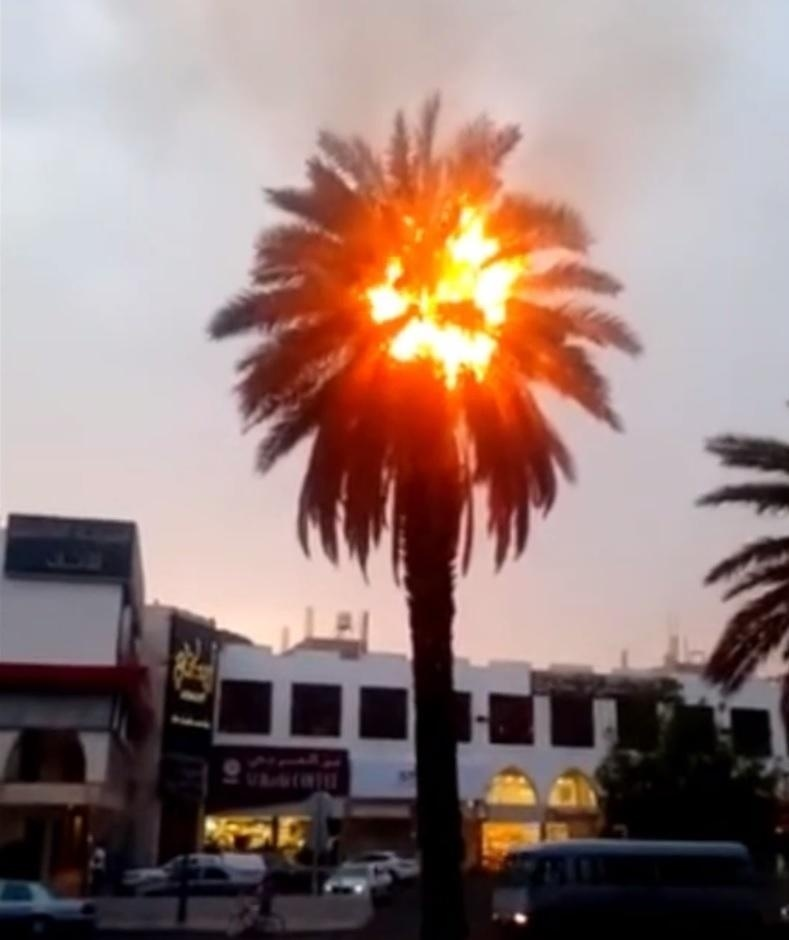fire: (359, 195, 529, 387)
